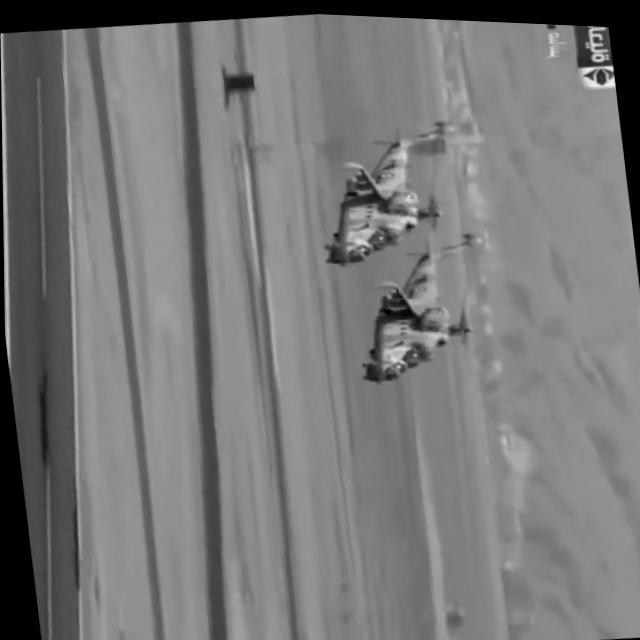helikopter: (370, 244, 516, 411), (306, 103, 446, 258)
